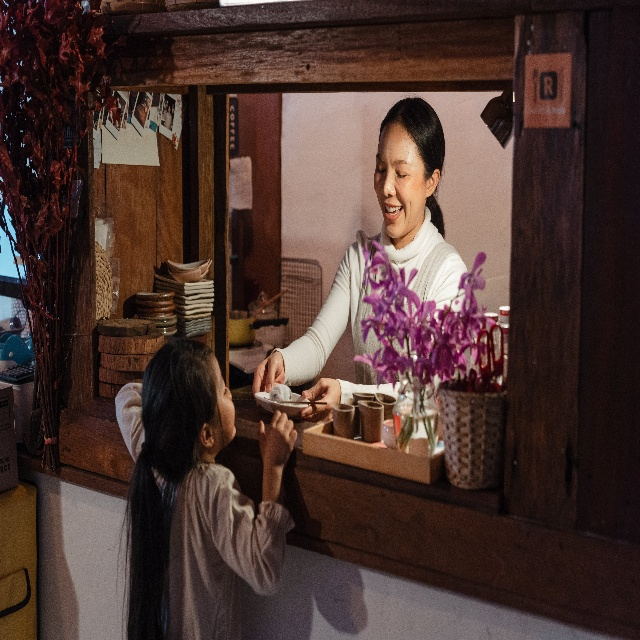Sin_guantes: (258, 411, 297, 460), (253, 343, 287, 398), (301, 377, 338, 424)
